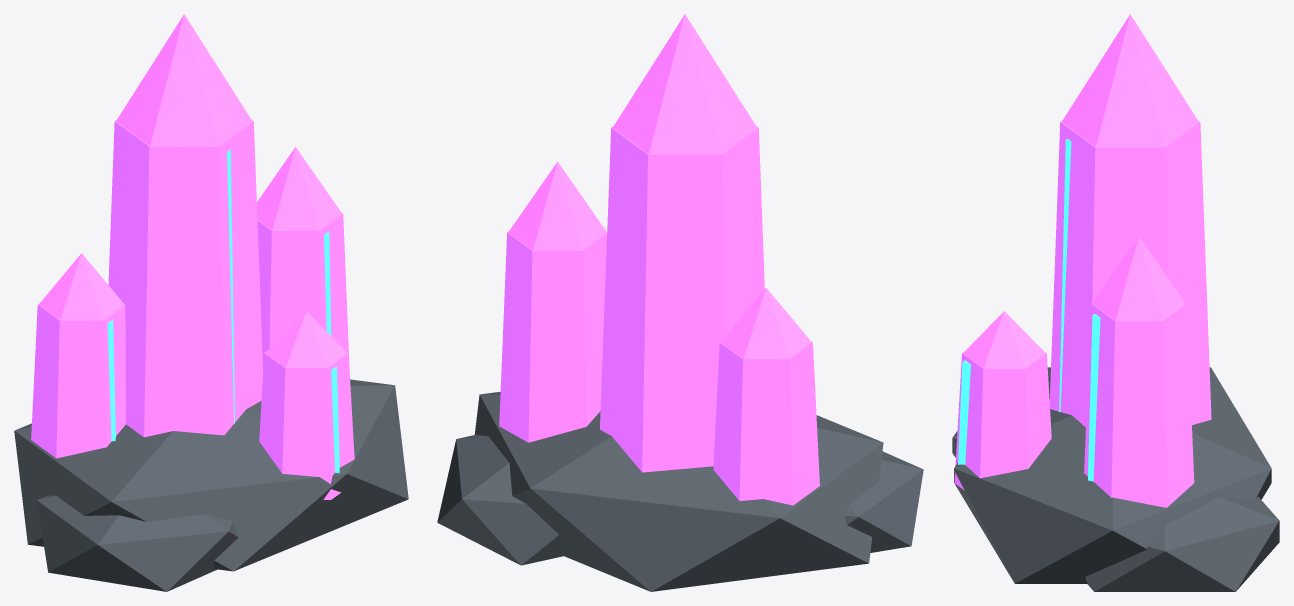
Rendered from crystal.glb.
The picture shows the model from 3 angles, left to right: view 1: azimuth 30°, elevation 25°; view 2: azimuth 150°, elevation 25°; view 3: azimuth 270°, elevation 25°; orthographic projection. The views are drawn at different scales.
Visible parts, largest first — view 1: crystal_body_mesh; view 2: crystal_body_mesh; view 3: crystal_body_mesh.
Part boxes in pixels (<box>): crystal_body_mesh: <box>14,14,408,591</box>; crystal_body_mesh: <box>437,14,923,591</box>; crystal_body_mesh: <box>952,14,1279,591</box>.
Bounding box in the file's own units: 1.01 × 1.35 × 0.7534.
